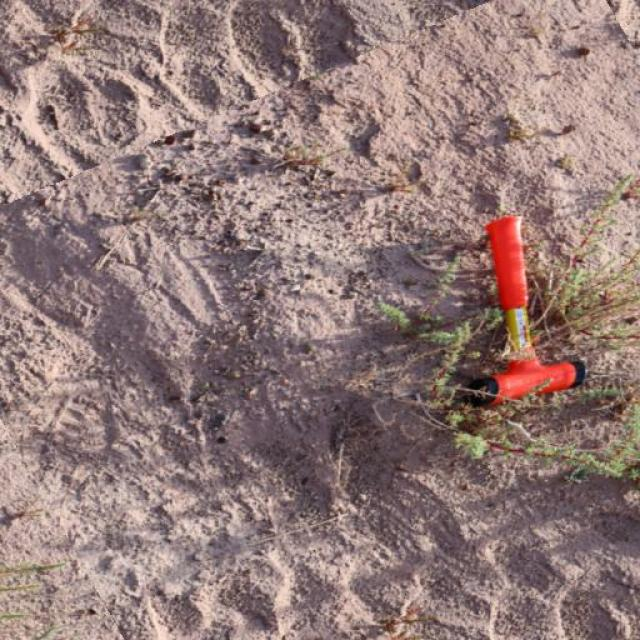mallet: (464, 212, 585, 406)
